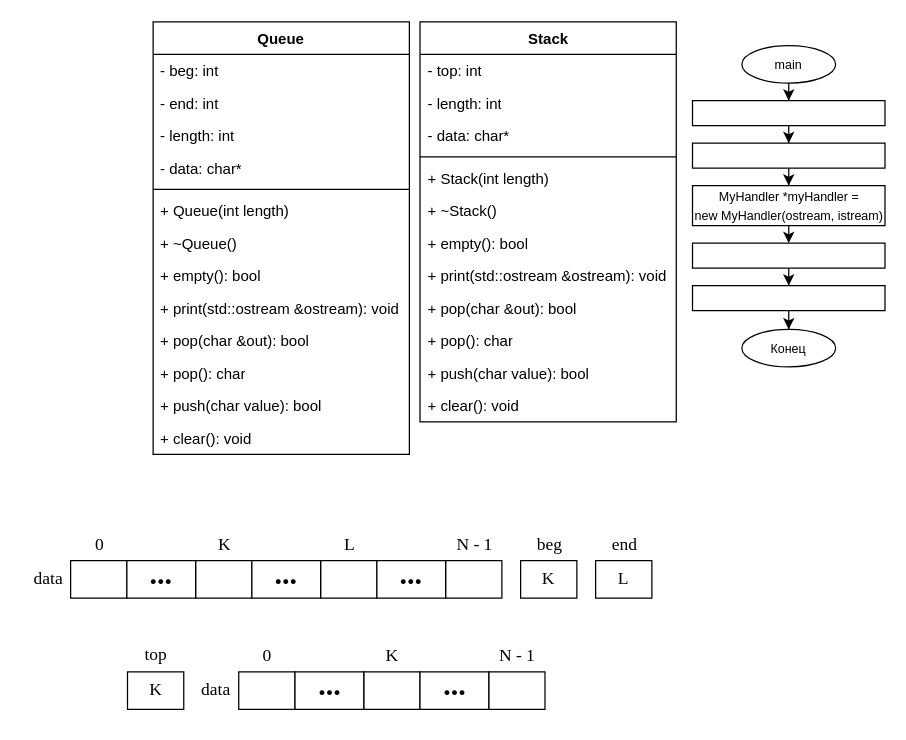
The diagram is 906 pixels wide and 740 high, and some of its shapes have lost their labels. The centre of each missing label's shape, as x and y in pixels:
myHandler->start(): pixel 788 255
return 0: pixel 788 297
std::istream &istream = std::cin: pixel 788 155
std::ostream &ostream = std::cout: pixel 788 112
